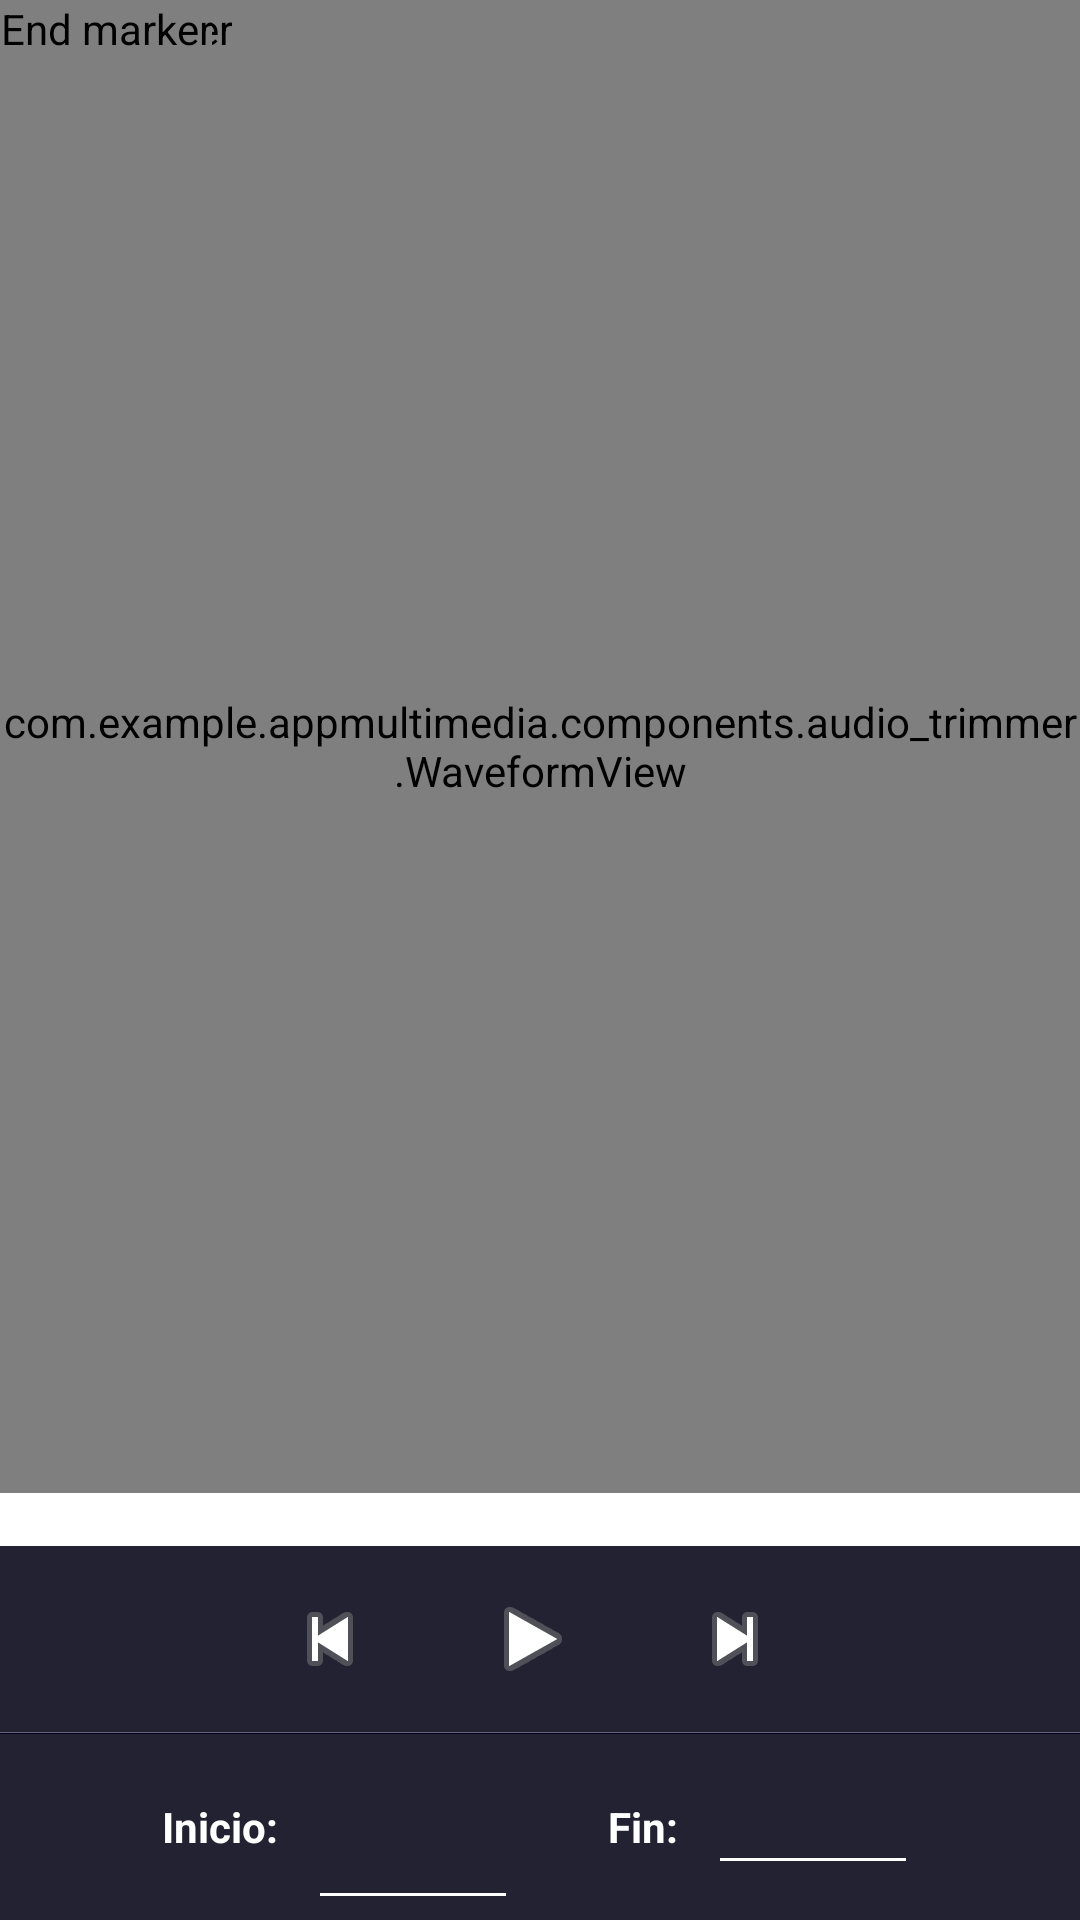

Icons on this 1080*1920 Android screen, each with the point to tap as (x=x, y=y):
Fast forward: (x=735, y=1639)
Play: (x=533, y=1639)
Rewind: (x=330, y=1639)
